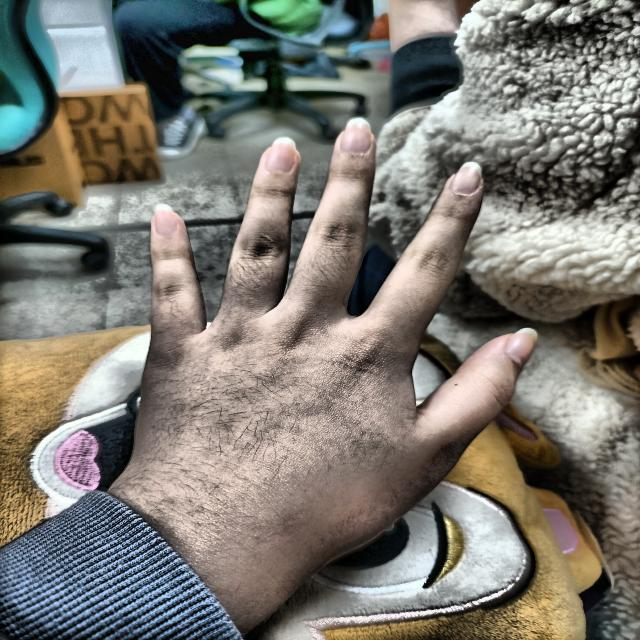not-gloved: (95, 101, 548, 623)
